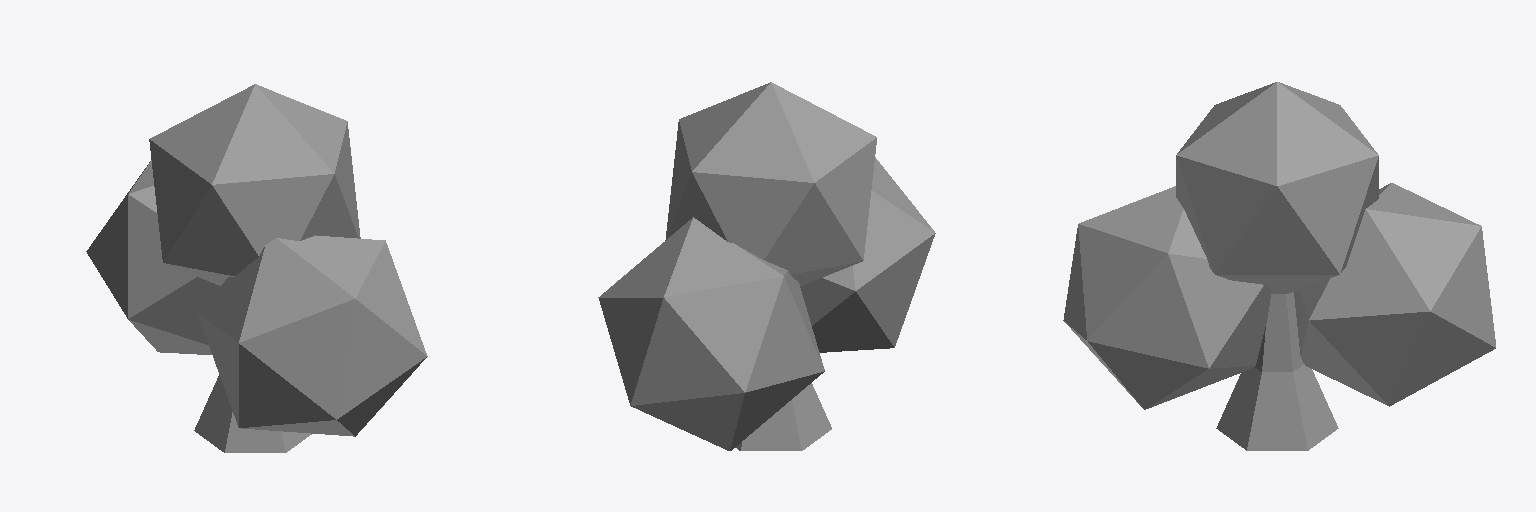
The model's file is SmallBush3.obj.
The picture shows the model from 3 angles: view 1: azimuth 30°, elevation 25°; view 2: azimuth 150°, elevation 25°; view 3: azimuth 270°, elevation 25°; orthographic projection.
Parts seen in each view (by area): view 1: Cylinder_Cylinder.004; view 2: Cylinder_Cylinder.004; view 3: Cylinder_Cylinder.004.
Part boxes in pixels (bbox=[...]): Cylinder_Cylinder.004: bbox=[86, 84, 427, 452]; Cylinder_Cylinder.004: bbox=[598, 82, 935, 450]; Cylinder_Cylinder.004: bbox=[1063, 82, 1495, 450].
Bounding box in the file's own units: 0.3489 × 0.6128 × 0.6936.